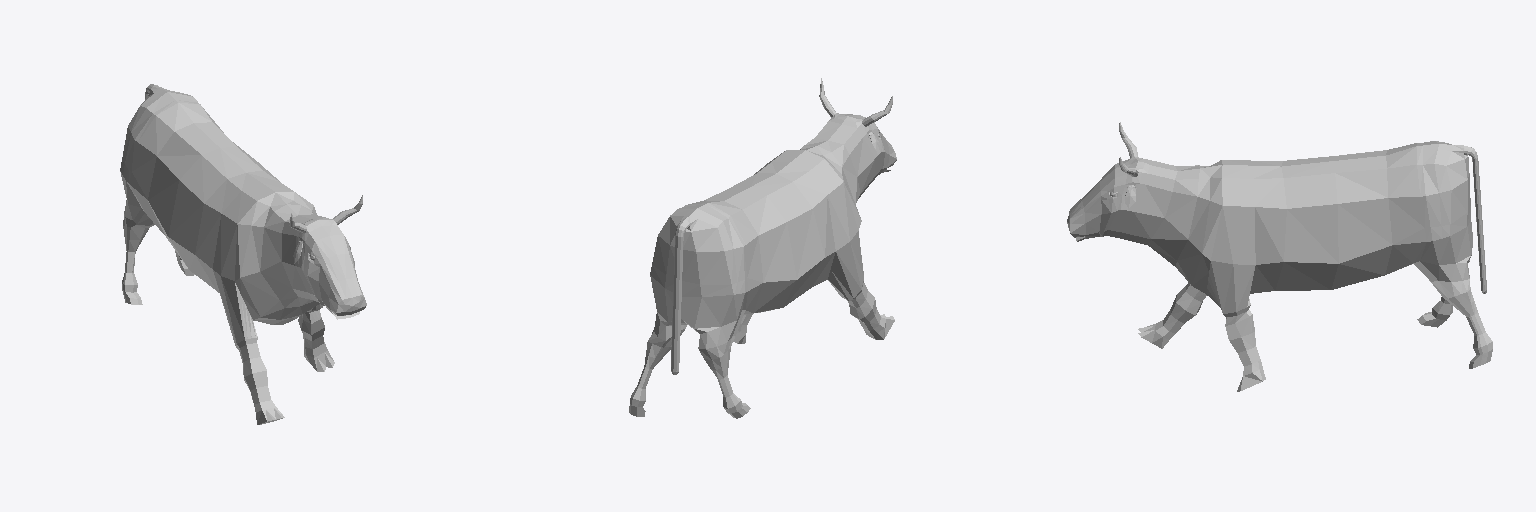
The model's file is 002_BullNew01move.obj.
3 renders of one model, left to right at view 1: azimuth 30°, elevation 25°; view 2: azimuth 150°, elevation 25°; view 3: azimuth 270°, elevation 25°, orthographic.
Parts seen in each view (by area): view 1: Boi.001; view 2: Boi.001; view 3: Boi.001.
Part boxes in pixels (bbox=[...]): Boi.001: bbox=[120, 84, 366, 424]; Boi.001: bbox=[629, 78, 896, 418]; Boi.001: bbox=[1067, 122, 1492, 391].
Bounding box in the file's own units: 14.12 × 26.02 × 44.12.